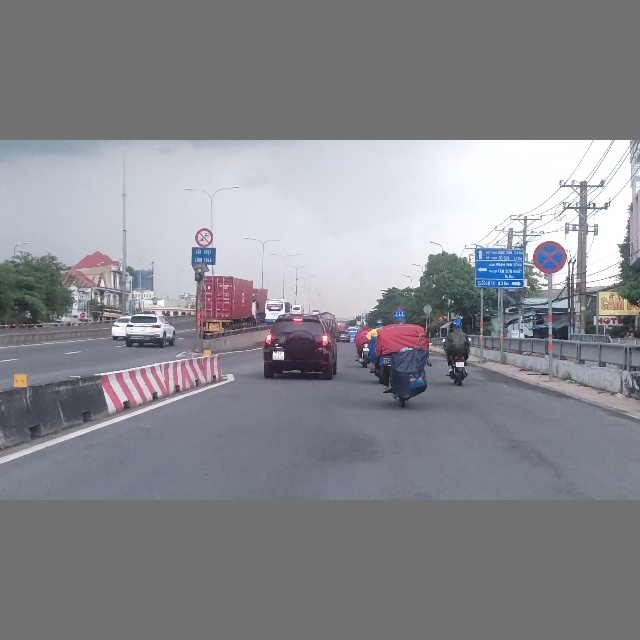P.102: (81, 312, 86, 317)
P.111: (195, 228, 213, 247)
P.130: (532, 240, 567, 274)
